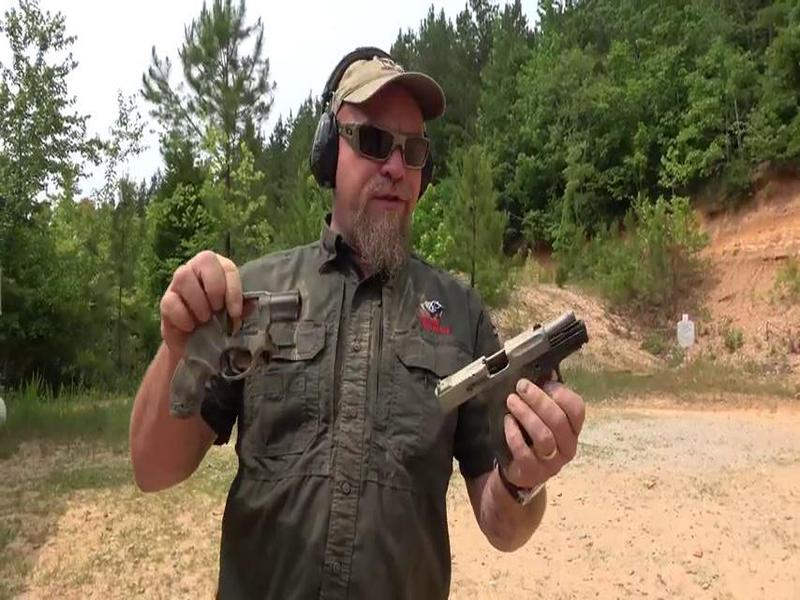Pistola: (439, 291, 617, 475)
Revolver: (143, 249, 305, 440)
